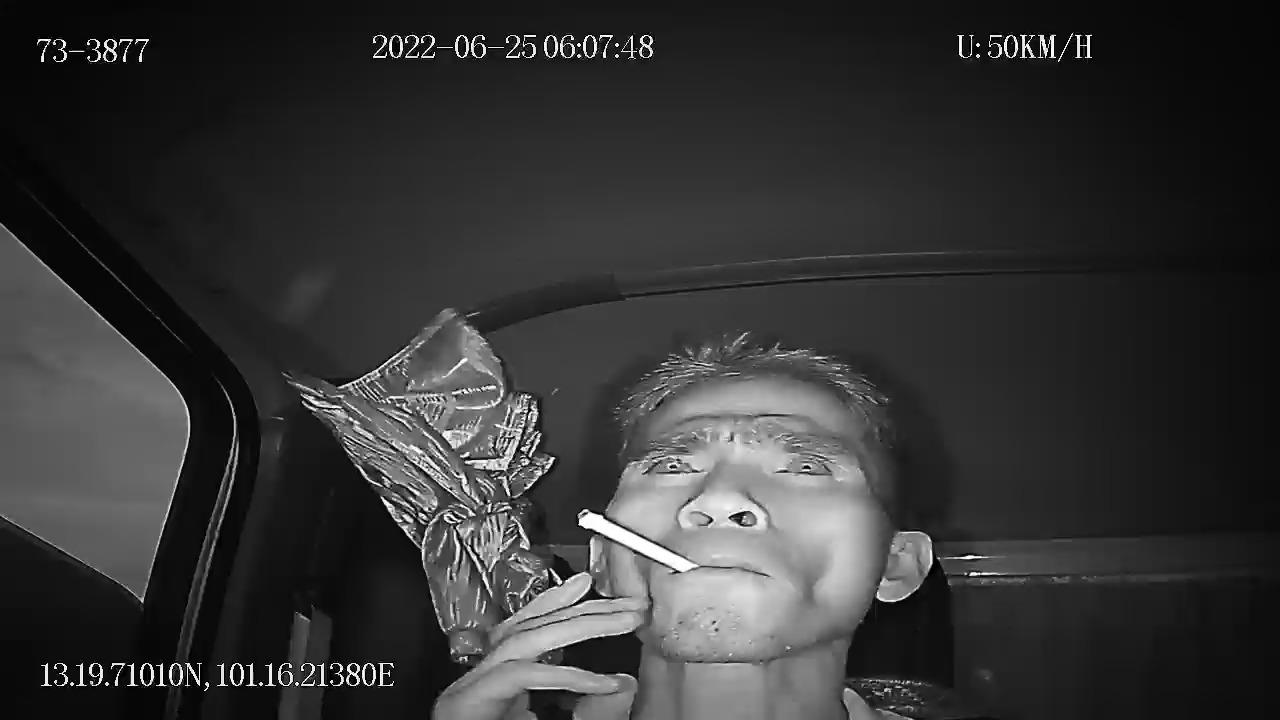Smoking: (558, 499, 708, 579)
